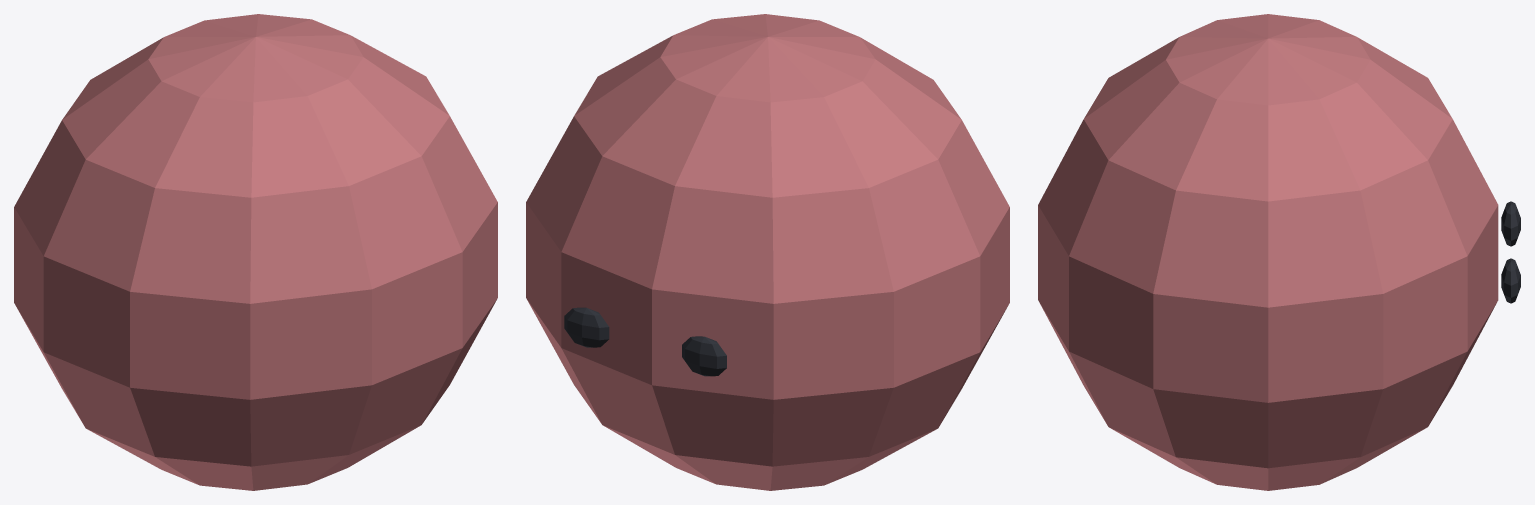
Rendered from trispike_head.obj.
3 views of the same model, side by side, from view 1: azimuth 30°, elevation 25°; view 2: azimuth 150°, elevation 25°; view 3: azimuth 270°, elevation 25° (orthographic).
Parts seen in each view (by area): view 1: trispike_head; view 2: trispike_head; view 3: trispike_head.
Part boxes in pixels (left/top/right/bottom): trispike_head: left=14, top=14, right=497, bottom=490; trispike_head: left=526, top=14, right=1009, bottom=490; trispike_head: left=1038, top=14, right=1520, bottom=490.
Bounding box in the file's own units: 0.4473 × 0.434 × 0.4438.
